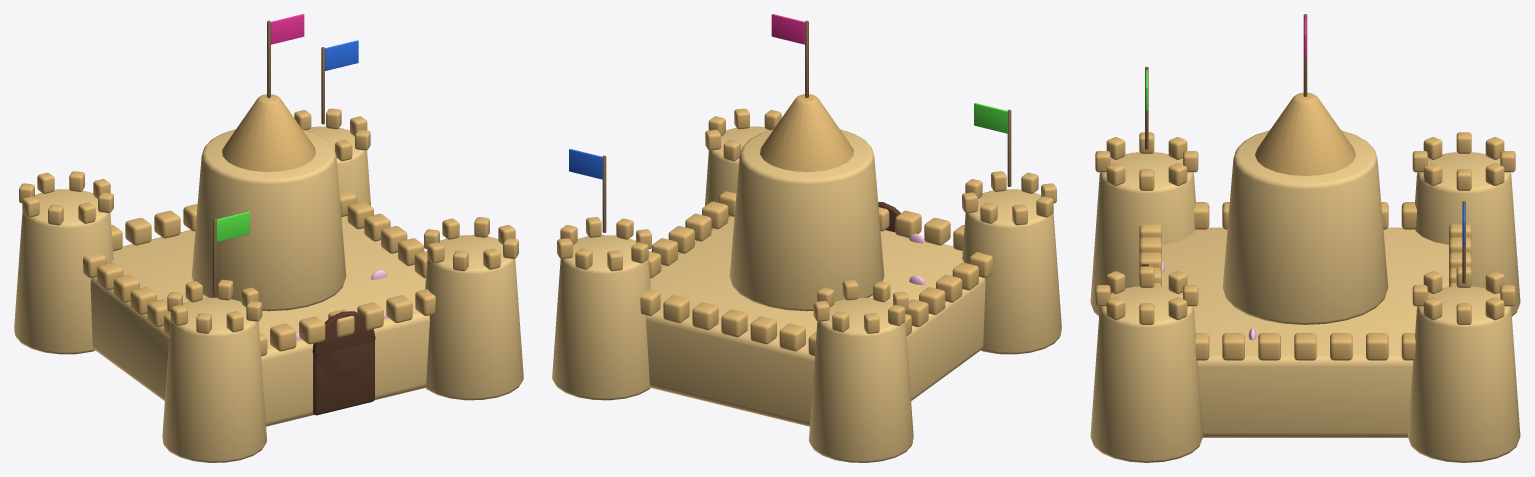
The model's file is istana-pasir.glb.
3 renders of one model, left to right at view 1: azimuth 30°, elevation 25°; view 2: azimuth 150°, elevation 25°; view 3: azimuth 270°, elevation 25°, orthographic. The views are drawn at different scales.
Parts seen in each view (by area): view 1: Cube, Cone.004, Cone, Cone.002, Cone.001, Cone.005, Cube.069, Cone.003, Cylinder, Cube.070, Cube.071, Cube.072 (+13 smaller); view 2: Cube, Cone.004, Cone.001, Cone.003, Cone, Cone.005, Cone.002, Cube.070, Cube.072, Cube.071, Cube.013, Cube.009 (+12 smaller); view 3: Cube, Cone.004, Cone.002, Cone.003, Cone, Cone.001, Cone.005, Cube.014, Cube.018, Cube.022, Cube.010, Cube.026.
Boxes of the visible parts, <box> form: Cube: <box>90,216,429,426</box>; Cone.004: <box>191,129,346,311</box>; Cone: <box>162,297,266,462</box>; Cone.002: <box>425,235,523,400</box>; Cone.001: <box>14,189,113,354</box>; Cone.005: <box>222,94,315,171</box>; Cube.069: <box>312,342,374,415</box>; Cone.003: <box>306,126,370,228</box>; Cylinder: <box>312,311,375,376</box>; Cube.070: <box>271,14,304,44</box>; Cube.071: <box>216,211,249,241</box>; Cube.072: <box>325,40,358,70</box>; Cube: <box>646,216,985,426</box>; Cone.004: <box>729,129,884,311</box>; Cone.001: <box>809,297,913,462</box>; Cone.003: <box>552,235,650,400</box>; Cone: <box>962,189,1061,354</box>; Cone.005: <box>760,94,853,171</box>; Cone.002: <box>705,126,769,228</box>; Cube.070: <box>771,14,804,44</box>; Cube.072: <box>569,149,602,179</box>; Cube.071: <box>974,103,1007,133</box>; Cube.013: <box>750,316,776,344</box>; Cube.009: <box>779,323,805,351</box>; Cube: <box>1162,227,1448,437</box>; Cone.004: <box>1222,130,1388,324</box>; Cone.002: <box>1090,286,1203,462</box>; Cone.003: <box>1407,286,1520,462</box>; Cone: <box>1090,152,1195,316</box>; Cone.001: <box>1415,152,1520,316</box>; Cone.005: <box>1255,92,1355,175</box>; Cube.014: <box>1258,333,1280,360</box>; Cube.018: <box>1294,333,1316,360</box>; Cube.022: <box>1330,333,1352,360</box>; Cube.010: <box>1222,333,1244,360</box>; Cube.026: <box>1366,333,1388,360</box>.
Size of the model in its own units: 5.69 by 5.25 by 5.69.
